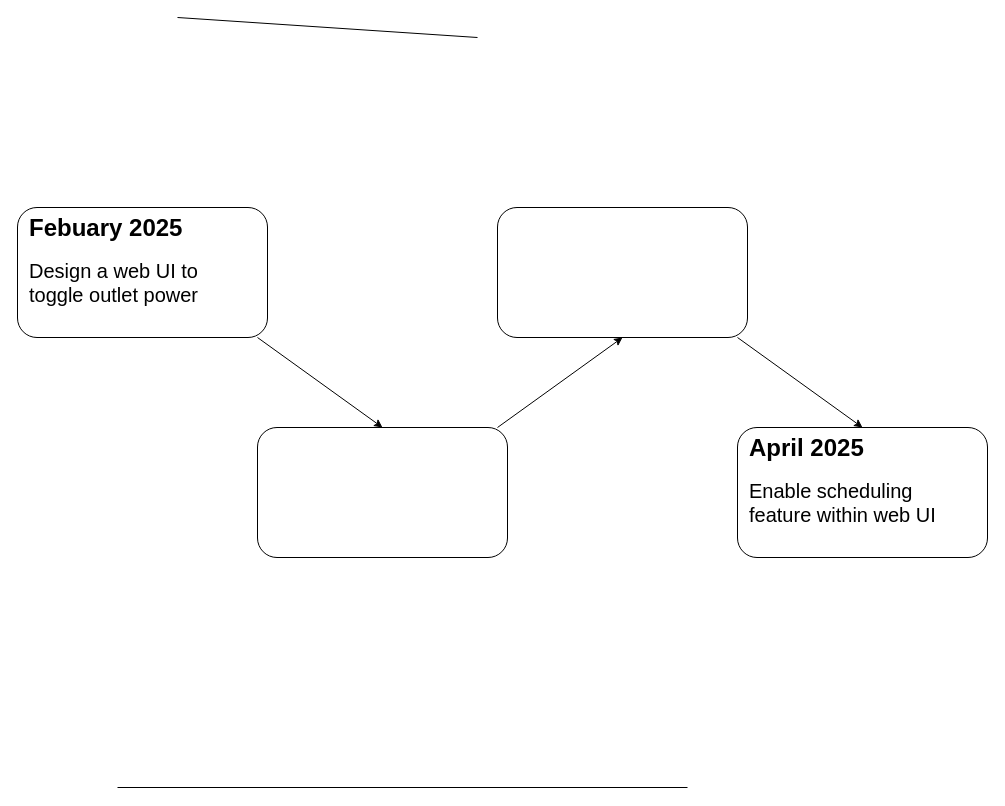
Image size: 1005x806. Some labels were removed from this diagram. Each missing label, with the centre of its shape:
April 2025 Configure a microcontroller to control power consumption: (x=622, y=272)
March 2025 Monitor power consumption in real-time and access data over time: (x=382, y=492)
